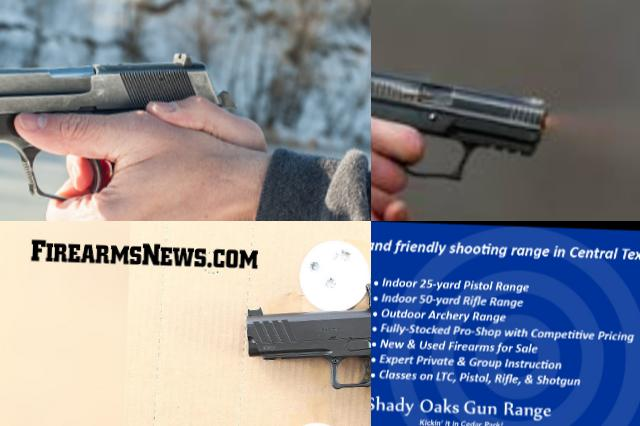handgun: (0, 38, 246, 217), (371, 51, 560, 221), (371, 221, 480, 423), (239, 277, 371, 426)
